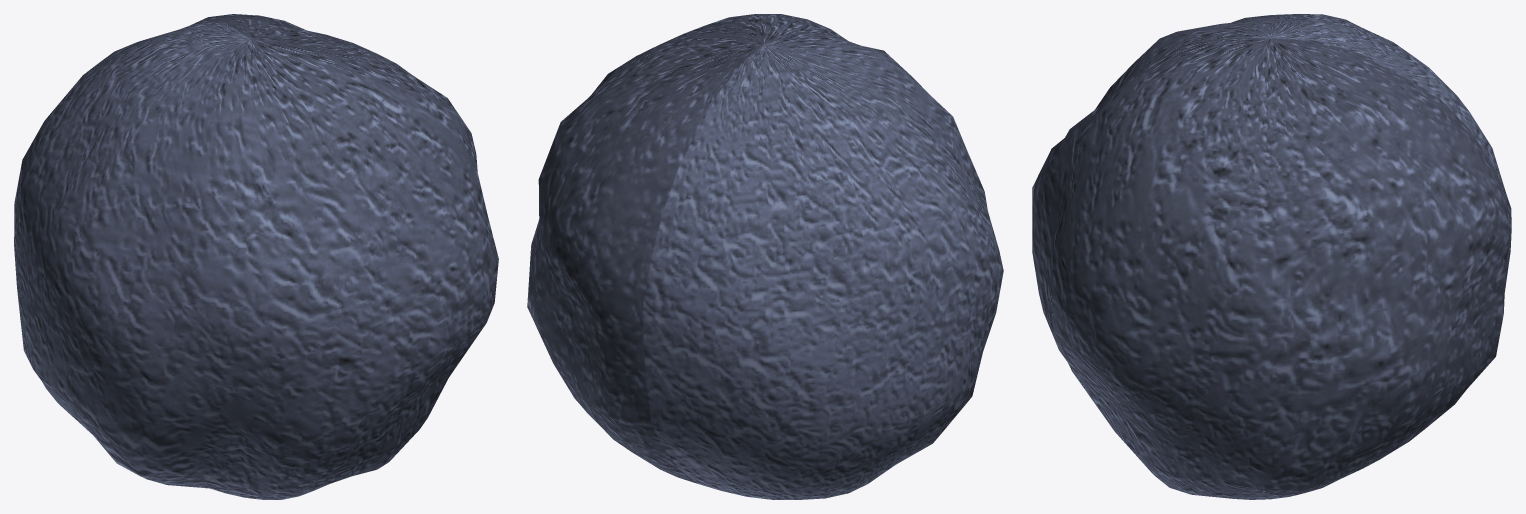
Rendered from Cannon_ball.FBX.
3 renders of one model, left to right at view 1: azimuth 30°, elevation 25°; view 2: azimuth 150°, elevation 25°; view 3: azimuth 270°, elevation 25°, orthographic.
Visible parts, largest first — view 1: Sphere001; view 2: Sphere001; view 3: Sphere001.
Boxes of the visible parts, bbox=[...] form: Sphere001: bbox=[14, 14, 498, 499]; Sphere001: bbox=[527, 14, 1003, 499]; Sphere001: bbox=[1032, 14, 1511, 499].
Bounding box in the file's own units: 53.31 × 53.6 × 53.93.
1 material, 1 textured.
